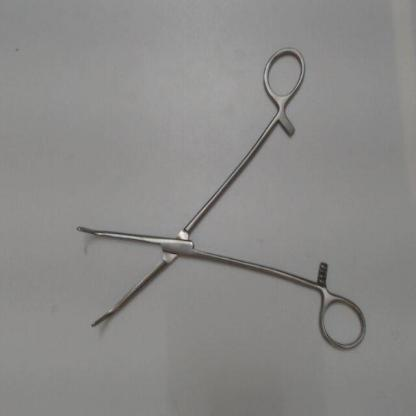Lahey Forceps: (69, 37, 374, 358)
